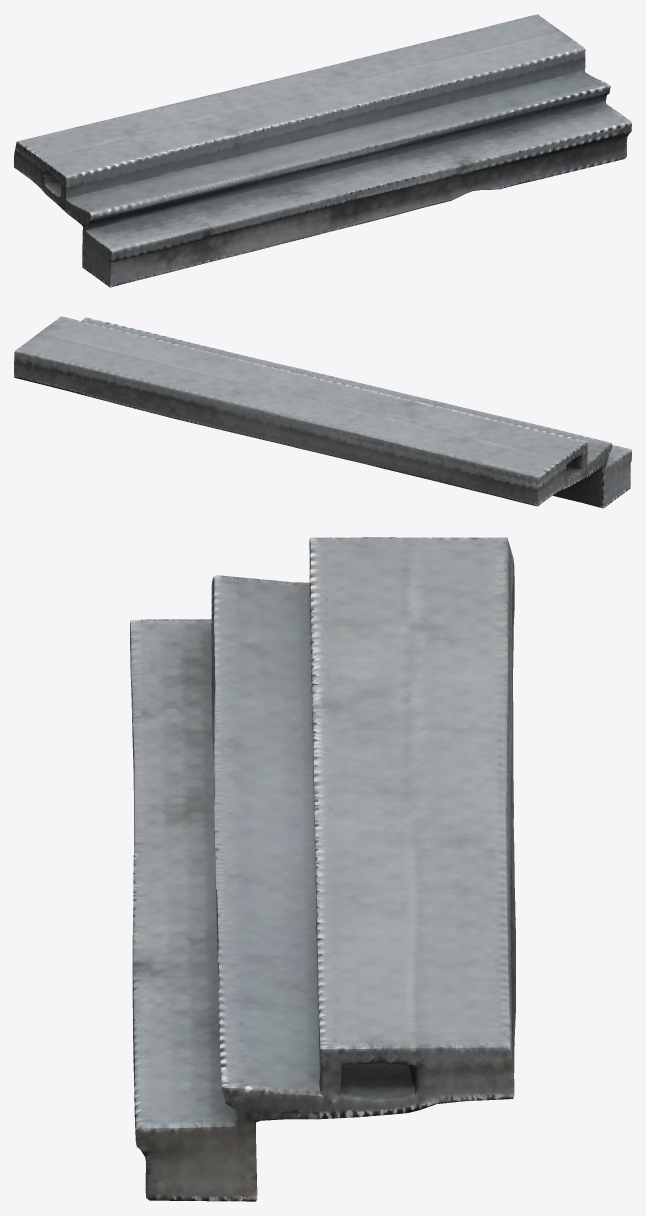
File: stairs-park-07.glb
The picture shows the model from 3 angles, top to bottom: view 1: azimuth 30°, elevation 25°; view 2: azimuth 150°, elevation 25°; view 3: azimuth 270°, elevation 25°; orthographic projection. The views are drawn at different scales.
Parts seen in each view (by area): view 1: park07; view 2: park07; view 3: park07.
Boxes of the visible parts, box(x1,y1,x2,y2) form: park07: box(14, 14, 631, 287); park07: box(14, 316, 631, 508); park07: box(130, 537, 515, 1201).
Size of the model in its own units: 4.84 by 0.6988 by 1.54.
Materials: 1 (1 with a texture image).
